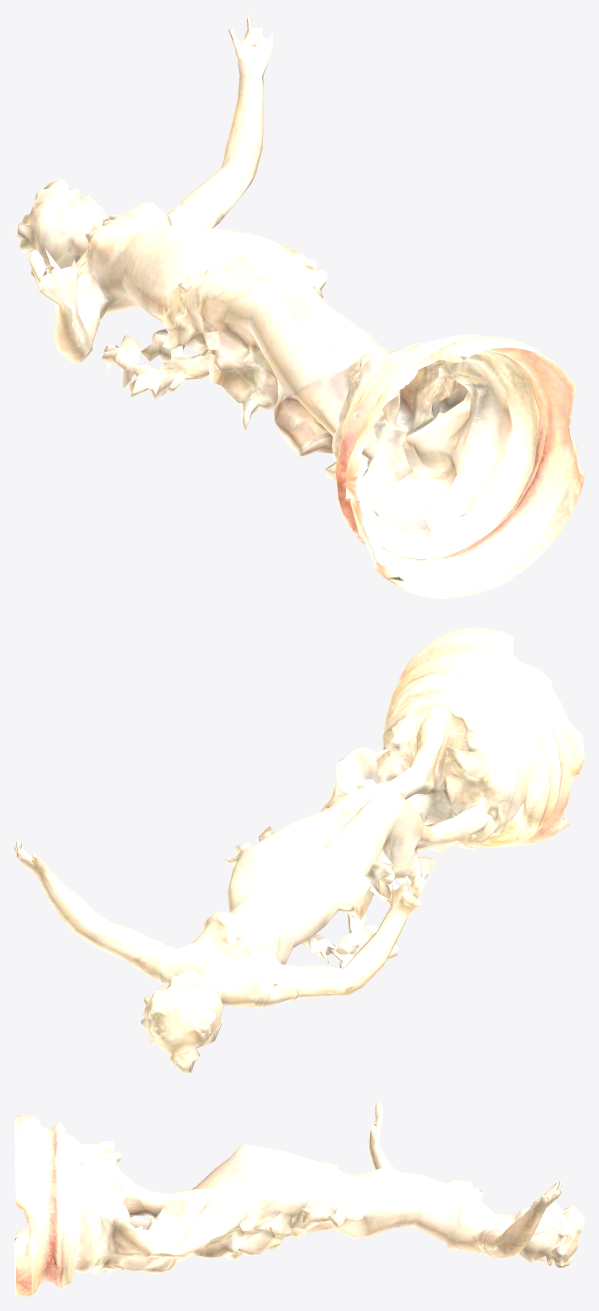
3 views of the same model, one above another, from view 1: azimuth 30°, elevation 25°; view 2: azimuth 150°, elevation 25°; view 3: azimuth 270°, elevation 25° (orthographic). The views are drawn at different scales.
Parts seen in each view (by area): view 1: original; view 2: original; view 3: original.
Part boxes in pixels (x1,y1,x2,y2): original: [14, 14, 584, 598]; original: [14, 627, 584, 1072]; original: [14, 1101, 584, 1296].
Bounding box in the file's own units: 1.74 × 1.12 × 3.45.
